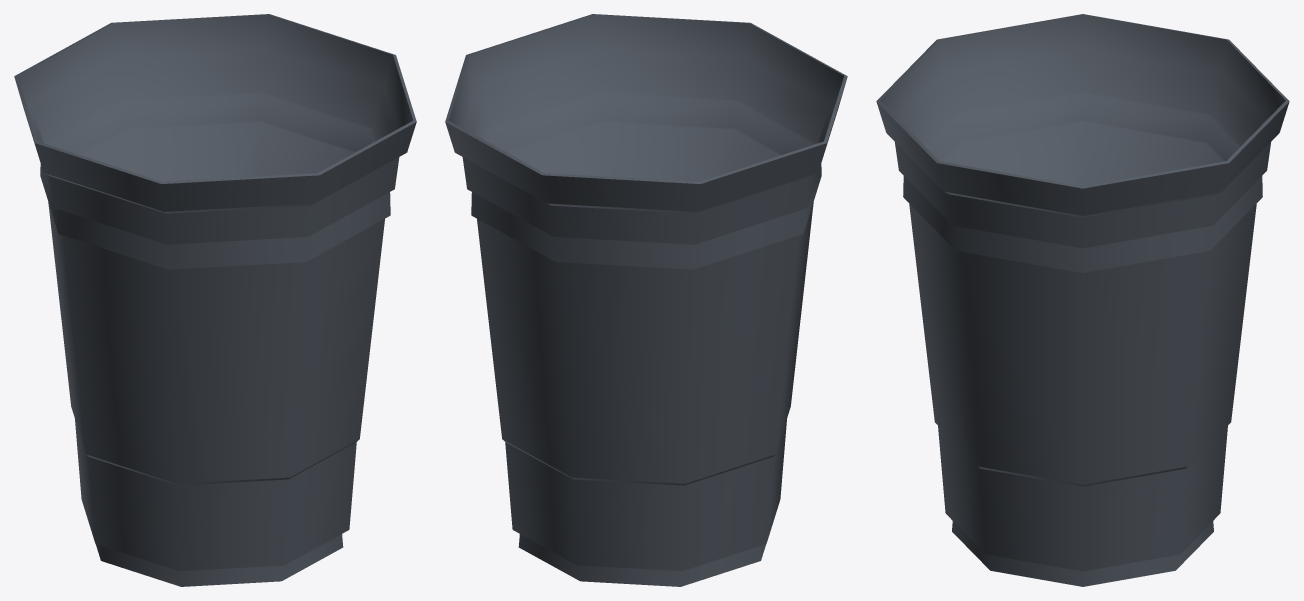
File: cup.fbx
3 renders of one model, left to right at view 1: azimuth 30°, elevation 25°; view 2: azimuth 150°, elevation 25°; view 3: azimuth 270°, elevation 25°, orthographic.
Visible parts, largest first — view 1: cup; view 2: cup; view 3: cup.
Boxes of the visible parts, <box> form: cup: <box>14,14,416,586</box>; cup: <box>445,14,847,586</box>; cup: <box>876,14,1289,586</box>.
Size of the model in its own units: 24.34 by 28.02 by 24.34.
